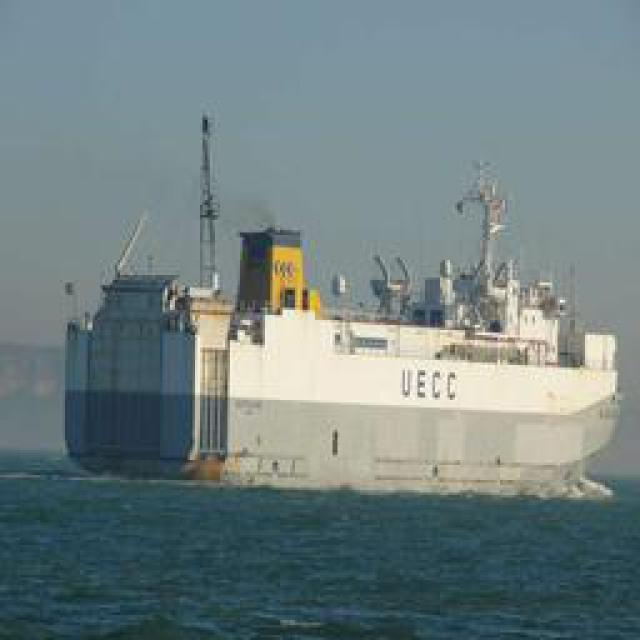Ship: (100, 206, 615, 499)
